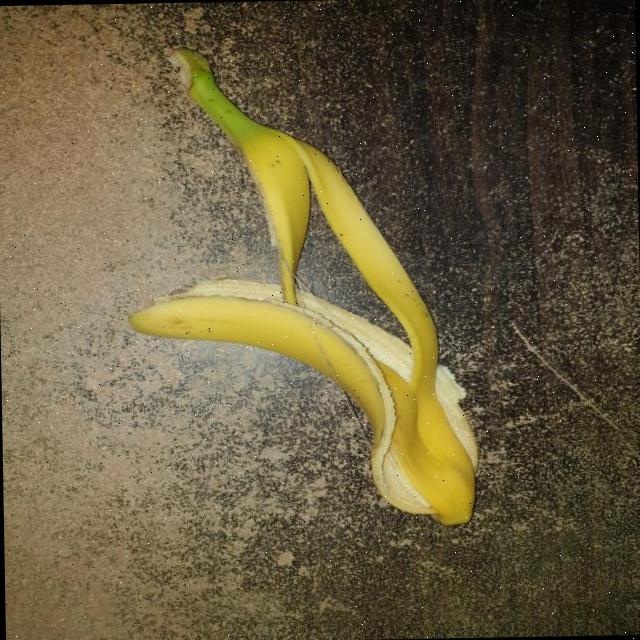banana-peel: (122, 39, 478, 532)
